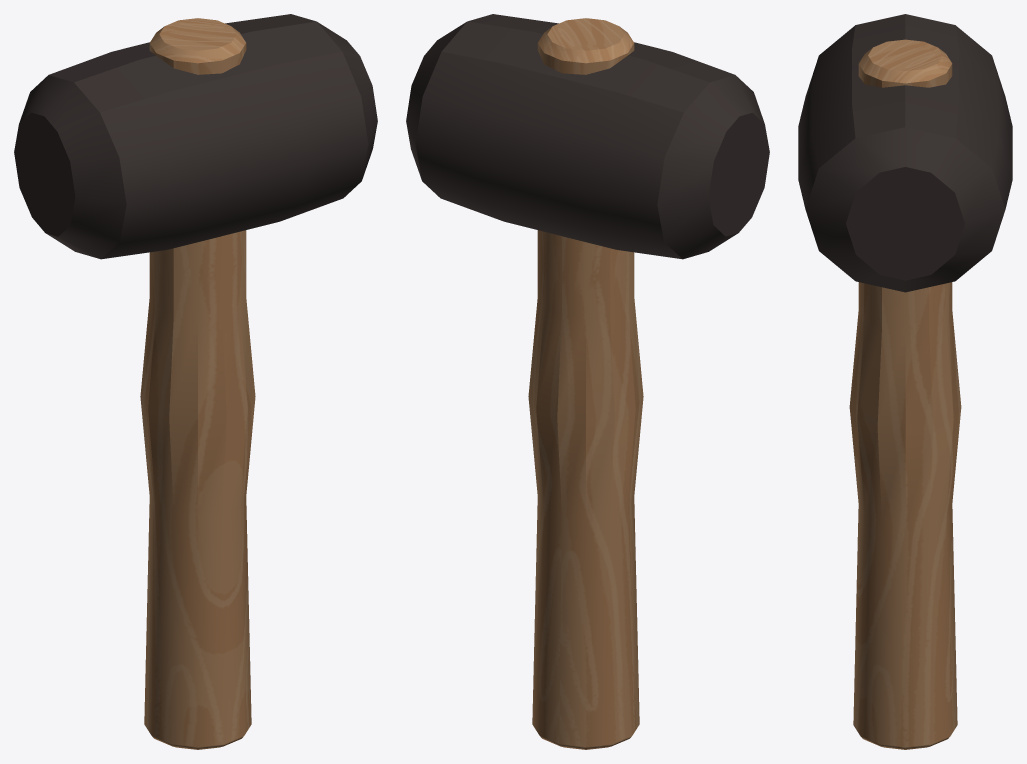
Rendered from mallet_2.fbx.
3 renders of one model, left to right at view 1: azimuth 30°, elevation 25°; view 2: azimuth 150°, elevation 25°; view 3: azimuth 270°, elevation 25°, orthographic. The views are drawn at different scales.
Visible parts, largest first — view 1: mallet_2; view 2: mallet_2; view 3: mallet_2.
Part boxes in pixels (<box>): mallet_2: <box>14,14,377,749</box>; mallet_2: <box>406,14,769,749</box>; mallet_2: <box>798,14,1012,749</box>.
Size of the model in its own units: 6.94 by 15.24 by 4.38.
